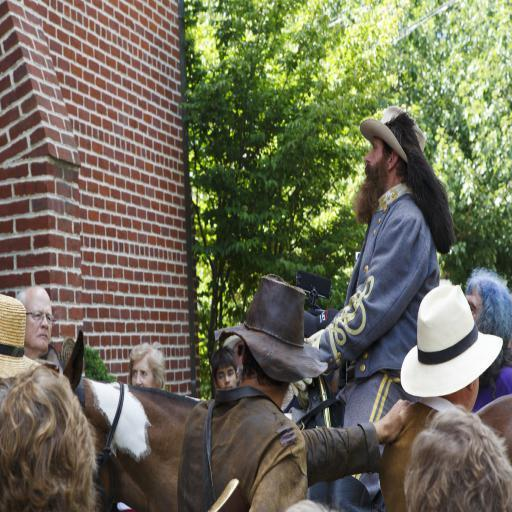horse: (61, 328, 200, 512)
